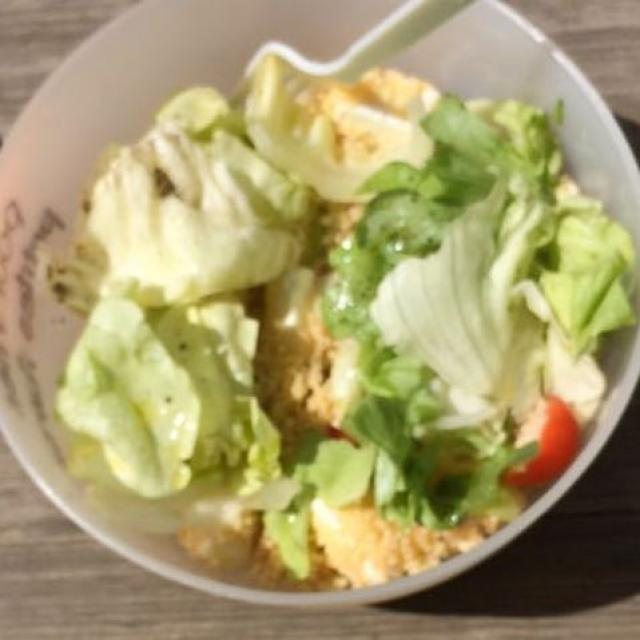salad-leaf-salad-green: (57, 71, 626, 578)
